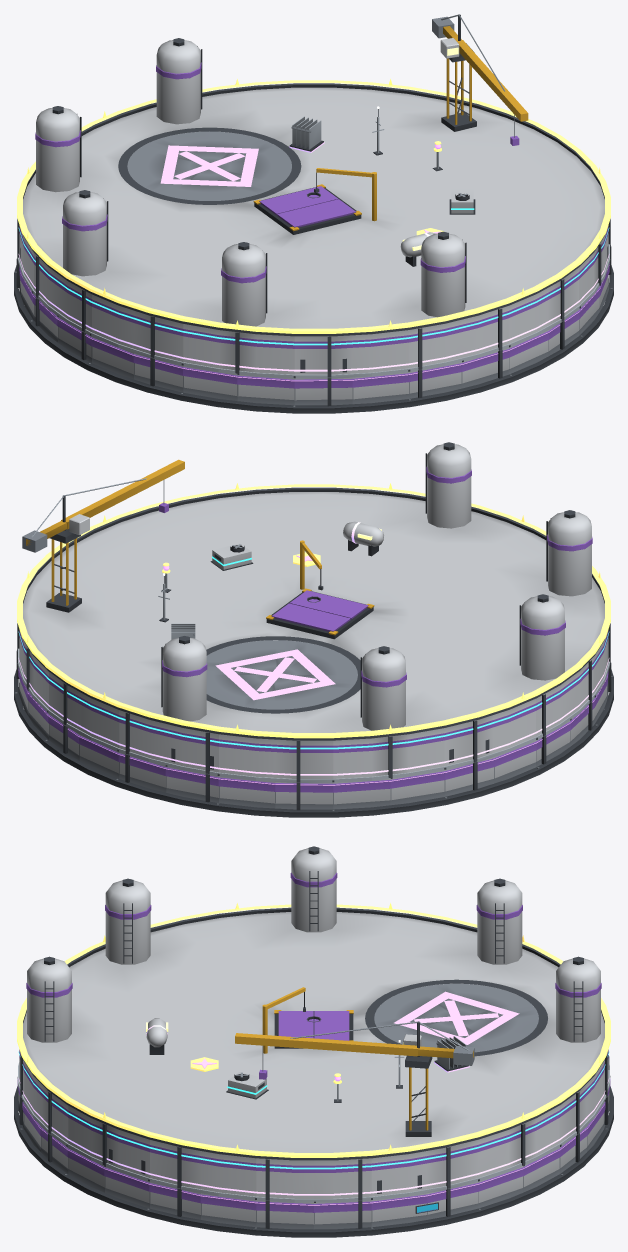
Rendered from storehouse_xl.glb.
The picture shows the model from 3 angles, top to bottom: view 1: azimuth 30°, elevation 25°; view 2: azimuth 150°, elevation 25°; view 3: azimuth 270°, elevation 25°; orthographic projection.
Parts seen in each view (by area): view 1: Roof, L5, Base, Upper_20, Upper_21, Upper_22, Upper_19, Upper_23, Upper_18, Upper_24, Wall_21, Wall_20 (+19 smaller); view 2: Roof, L5, Base, Upper_10, Upper_11, Upper_09, Upper_12, Upper_08, Upper_07, Upper_13, Wall_10, Wall_11 (+19 smaller); view 3: Roof, L5, Base, Upper_00, Upper_31, Upper_30, Upper_01, Upper_02, Upper_29, Upper_03, Upper_28, Wall_00 (+19 smaller).
Boxes of the visible parts, x1,y1,x2,y2 form: Roof: (23,14,604,336); L5: (17,79,610,333); Base: (14,265,613,413); Upper_20: (237,332,294,374); Upper_21: (294,335,352,377); Upper_22: (352,330,408,373); Upper_19: (183,324,237,373); Upper_23: (409,320,461,369); Upper_18: (134,311,183,361); Upper_24: (461,306,508,357); Wall_21: (294,377,352,406); Wall_20: (237,373,294,405); Roof: (22,442,604,740); L5: (17,483,610,738); Base: (14,669,613,817); Upper_10: (275,739,333,781); Upper_11: (333,736,390,778); Upper_09: (219,734,275,777); Upper_12: (390,728,444,777); Upper_08: (166,724,218,773); Upper_07: (119,710,166,762); Upper_13: (444,715,493,766); Wall_10: (275,782,333,810); Wall_11: (333,778,390,809); Roof: (23,846,604,1160); L5: (17,903,610,1157); Base: (14,1086,613,1237); Upper_00: (314,1158,371,1200); Upper_31: (256,1158,313,1200); Upper_30: (201,1151,256,1196); Upper_01: (371,1151,426,1196); Upper_02: (426,1140,477,1189); Upper_29: (150,1140,201,1189); Upper_03: (478,1124,523,1177); Upper_28: (104,1124,149,1177); Wall_00: (314,1200,371,1229).
Bounding box in the file's own units: 25.25 × 8.63 × 25.25.
